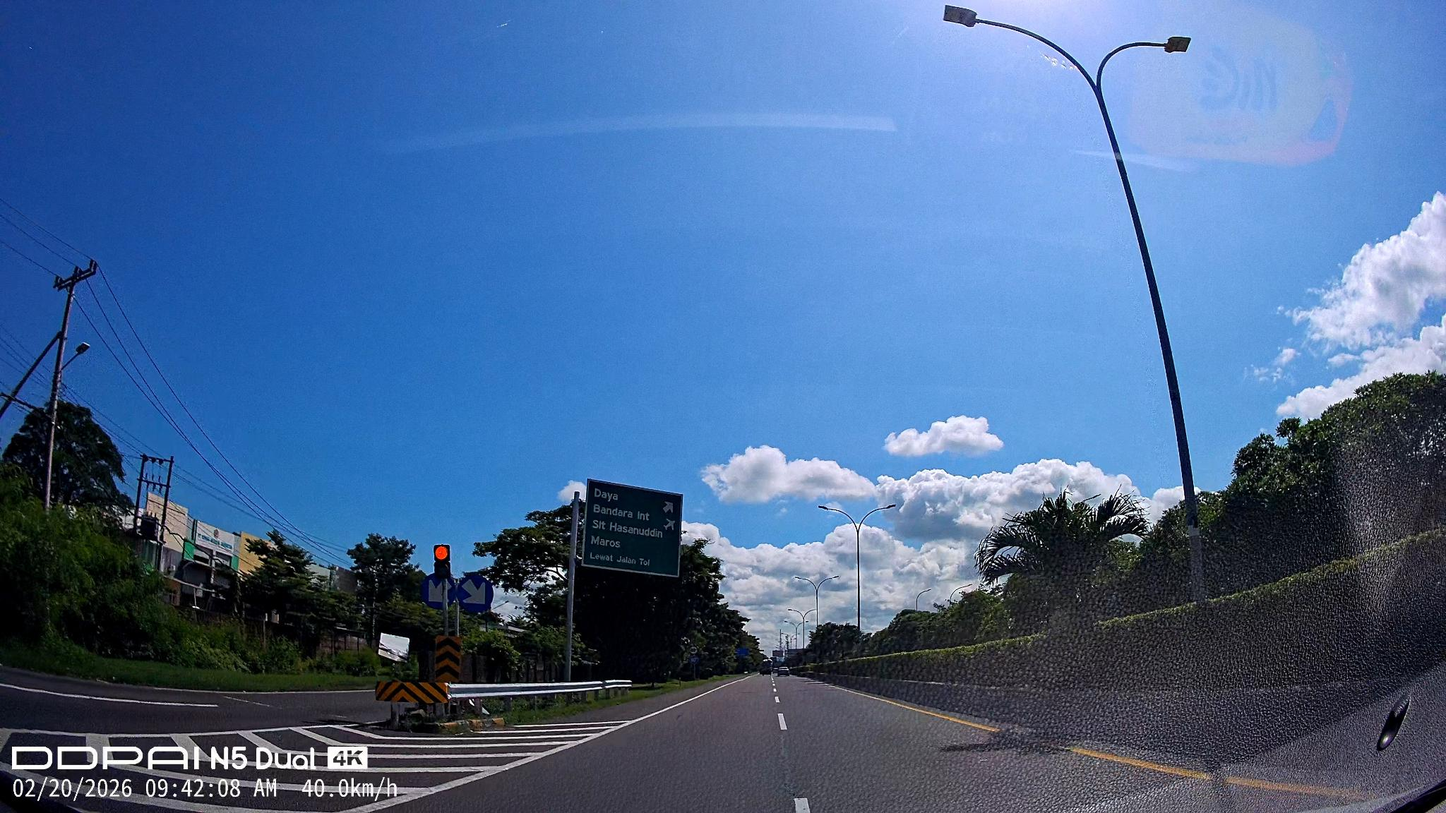rambu_teks: (587, 478, 683, 574)
